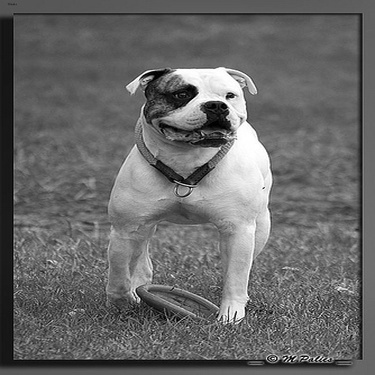dog: (95, 57, 276, 331)
